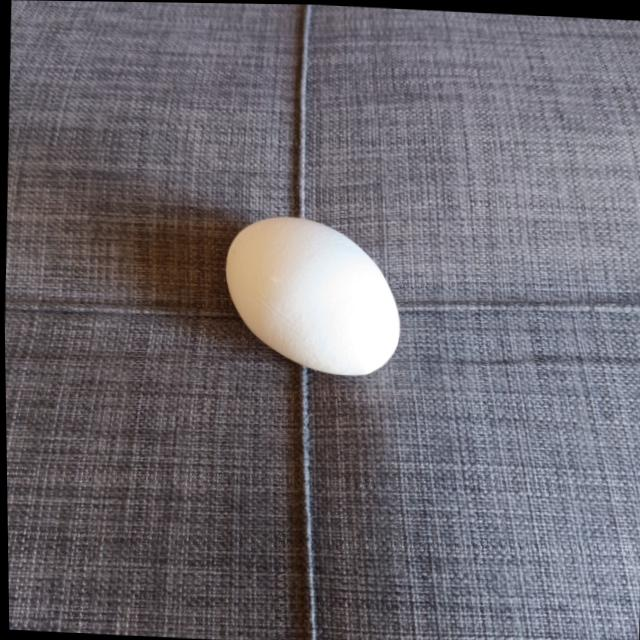egg: (219, 214, 402, 373)
